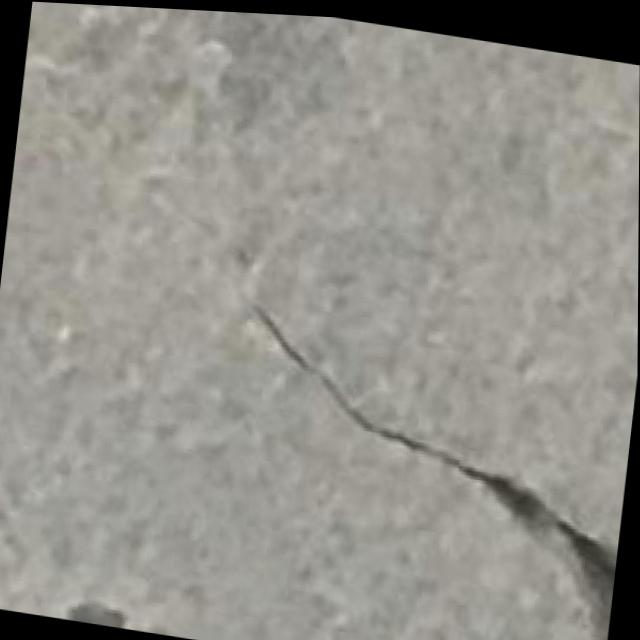Crack: (191, 263, 639, 640)
